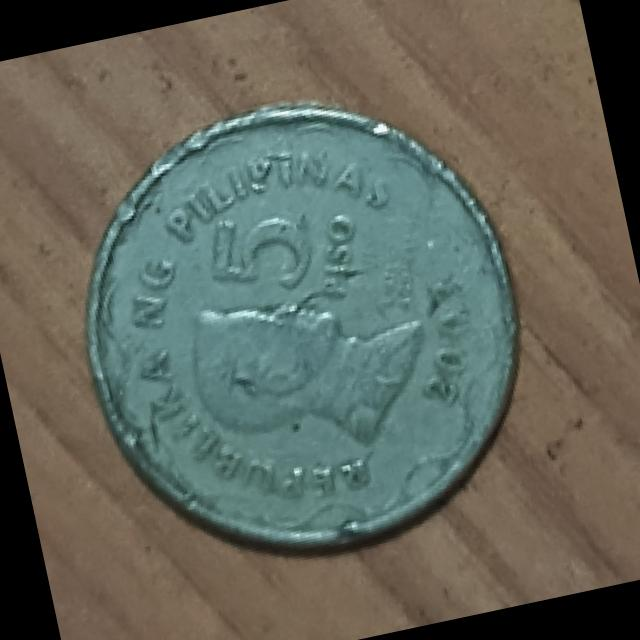5_peso: (86, 104, 515, 545)
